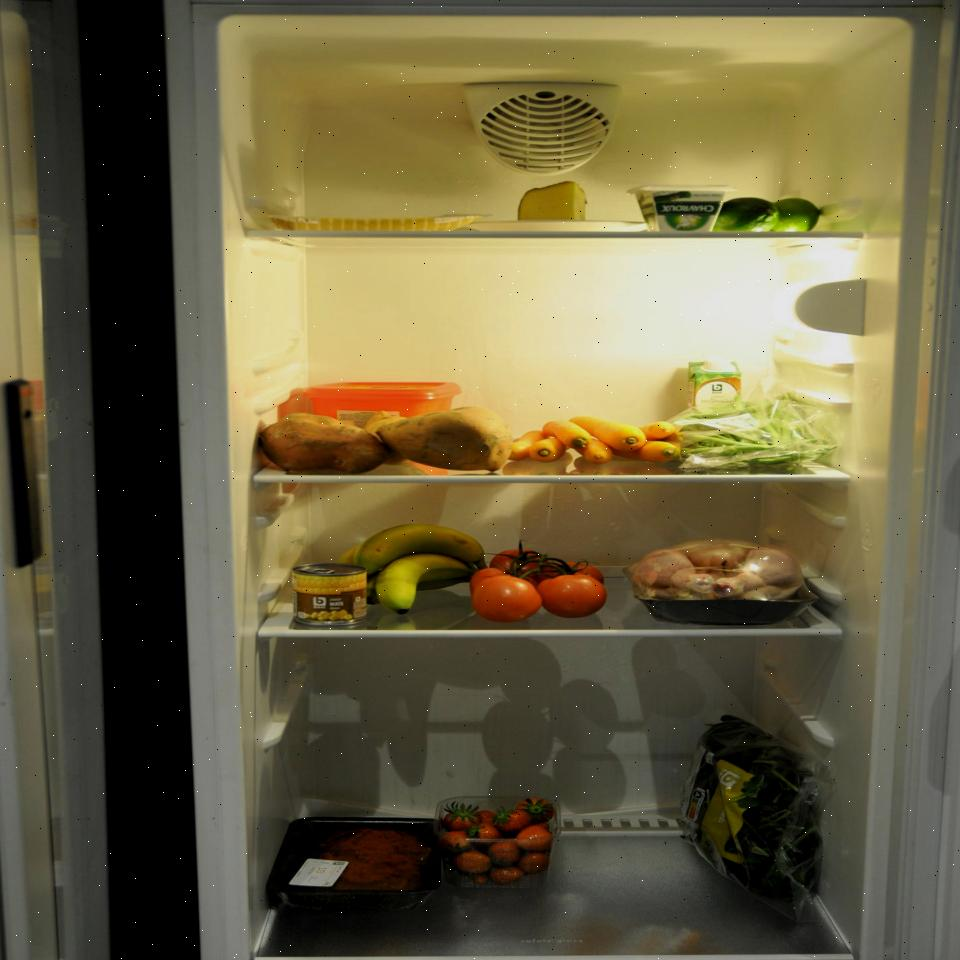Carne pollo: (624, 536, 819, 622)
Mantequilla: (292, 371, 462, 436)
Plátano: (327, 520, 483, 608)
Tomate: (467, 533, 614, 625)
Zanahoria: (501, 410, 689, 470), (511, 181, 592, 226)
lime: (708, 197, 832, 232)
strawberries: (435, 790, 565, 890)
